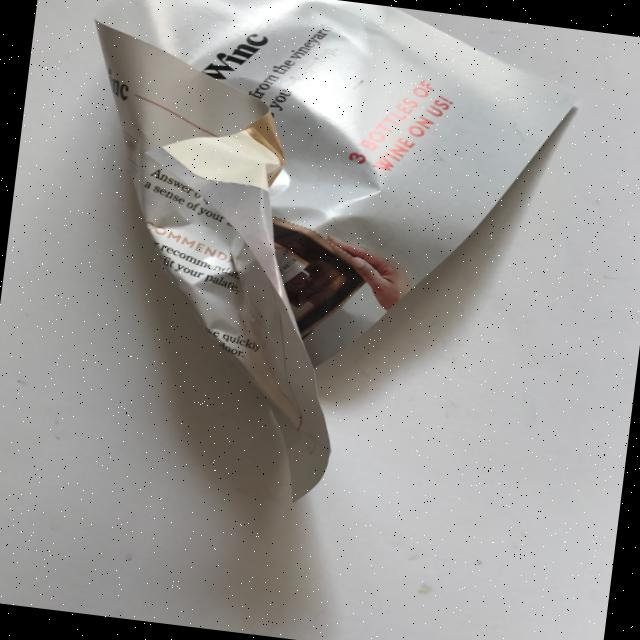paper: (36, 0, 587, 529)
